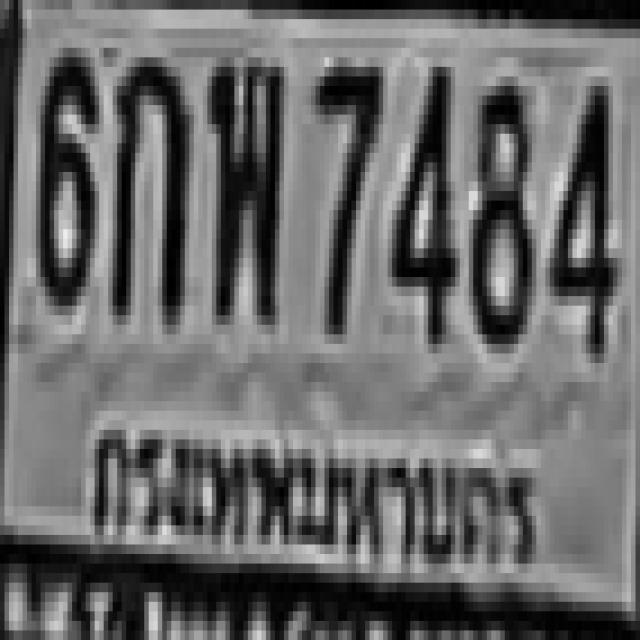10GorGai: (108, 48, 185, 315)
39PhorPan: (208, 48, 280, 315)
4: (546, 76, 608, 354), (388, 58, 450, 334)
6: (32, 38, 94, 296)
7: (311, 57, 379, 325)
8: (469, 76, 527, 334)
Bangkok: (80, 405, 556, 581)
